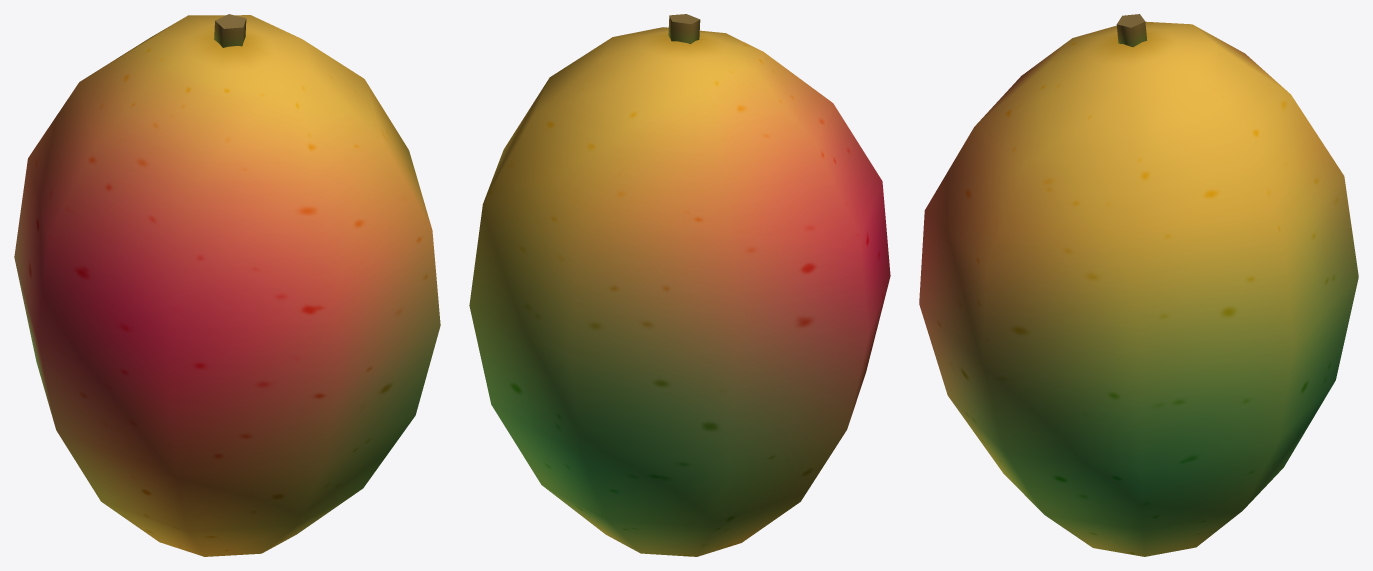
Rendered from mango.glb.
The picture shows the model from 3 angles, left to right: view 1: azimuth 30°, elevation 25°; view 2: azimuth 150°, elevation 25°; view 3: azimuth 270°, elevation 25°; orthographic projection.
Parts seen in each view (by area): view 1: mango_mesh; view 2: mango_mesh; view 3: mango_mesh.
Part boxes in pixels (box(x1,y1,x2,y2)): mango_mesh: box(14, 14, 440, 556); mango_mesh: box(469, 14, 890, 556); mango_mesh: box(919, 14, 1358, 556).
Size of the model in its own units: 0.7015 by 0.9335 by 0.7077.
